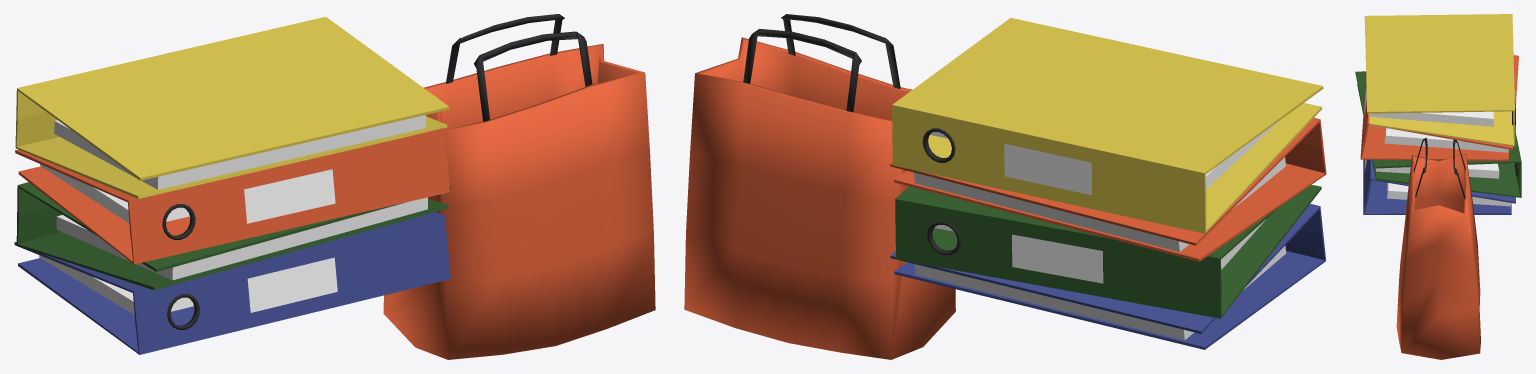
The model's file is Office Folders.fbx.
3 views of the same model, side by side, from view 1: azimuth 30°, elevation 25°; view 2: azimuth 150°, elevation 25°; view 3: azimuth 270°, elevation 25° (orthographic). The views are drawn at different scales.
Visible parts, largest first — view 1: Cube.016, Cube.008, Cube.014, Cube.010, Cube.012, Cube.013, Cube.009, Cube.015, Cube.011; view 2: Cube.016, Cube.008, Cube.012, Cube.014, Cube.010, Cube.011, Cube.015, Cube.009; view 3: Cube.008, Cube.016, Cube.010, Cube.012, Cube.014, Cube.011, Cube.009, Cube.013, Cube.015.
Boxes of the visible parts, x1=… form: Cube.016: x1=383, y1=14, x2=655, y2=359; Cube.008: x1=15, y1=16, x2=449, y2=198; Cube.014: x1=14, y1=212, x2=450, y2=354; Cube.010: x1=15, y1=128, x2=449, y2=264; Cube.012: x1=16, y1=182, x2=450, y2=290; Cube.013: x1=56, y1=197, x2=427, y2=280; Cube.009: x1=54, y1=115, x2=425, y2=189; Cube.015: x1=39, y1=255, x2=193, y2=314; Cube.011: x1=40, y1=164, x2=189, y2=223; Cube.016: x1=684, y1=14, x2=955, y2=359; Cube.008: x1=892, y1=18, x2=1323, y2=233; Cube.012: x1=895, y1=185, x2=1321, y2=318; Cube.014: x1=890, y1=204, x2=1325, y2=349; Cube.010: x1=890, y1=117, x2=1326, y2=261; Cube.011: x1=914, y1=157, x2=1285, y2=251; Cube.015: x1=914, y1=245, x2=1286, y2=340; Cube.009: x1=930, y1=120, x2=1279, y2=189; Cube.008: x1=1364, y1=14, x2=1515, y2=146; Cube.016: x1=1396, y1=137, x2=1480, y2=359; Cube.010: x1=1360, y1=55, x2=1518, y2=161; Cube.012: x1=1355, y1=71, x2=1521, y2=197; Cube.014: x1=1363, y1=125, x2=1515, y2=214; Cube.011: x1=1384, y1=128, x2=1508, y2=152; Cube.009: x1=1370, y1=111, x2=1493, y2=126; Cube.013: x1=1375, y1=163, x2=1499, y2=178; Cube.015: x1=1387, y1=182, x2=1511, y2=206.
Size of the model in its own units: 537 by 286 by 228.
